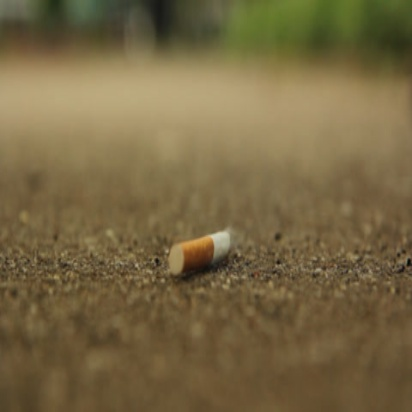cigarette: (162, 225, 244, 283)
